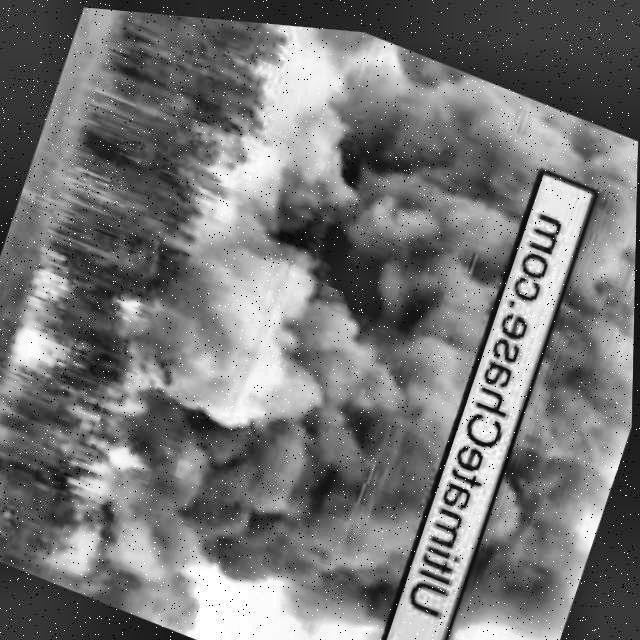Fire: (27, 241, 171, 358), (84, 420, 168, 479), (11, 324, 83, 378), (0, 485, 6, 535)
Smoke: (95, 7, 563, 640), (442, 109, 639, 640)
